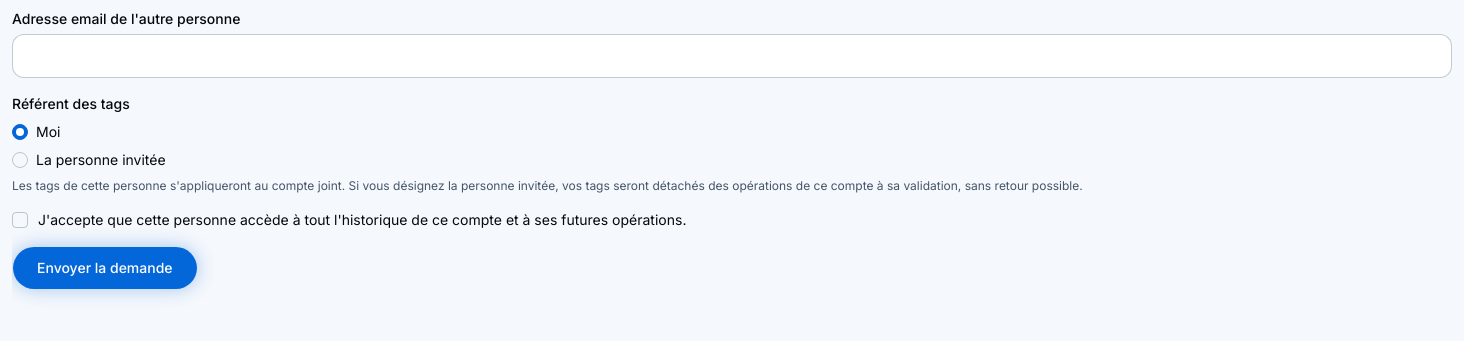
it: demande de compte joint › transmet le compte, l'adresse, le référent et l'accord
Step 1. Type "b@x.fr" into the field labelled "Adresse email de l'autre personne" → (732, 56), box [12, 34, 1452, 78]
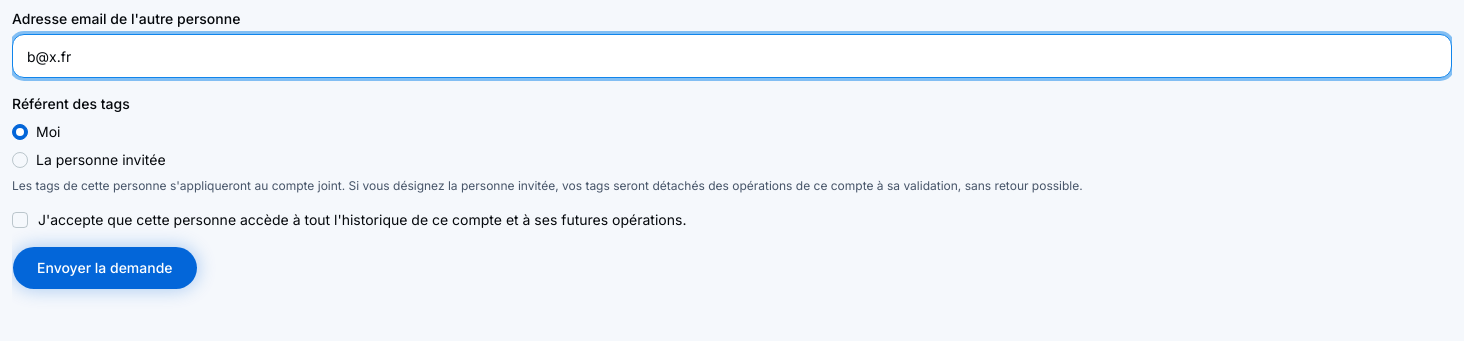
Step 2. Click the checkbox → (20, 220), box [12, 212, 28, 228]
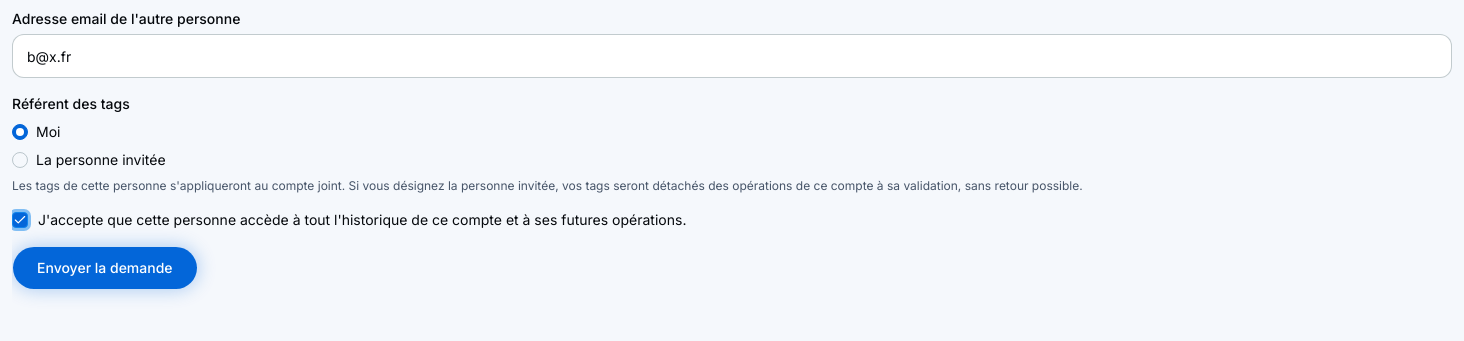
Step 3. Click the button "Envoyer la demande" → (105, 268), box [12, 246, 198, 290]
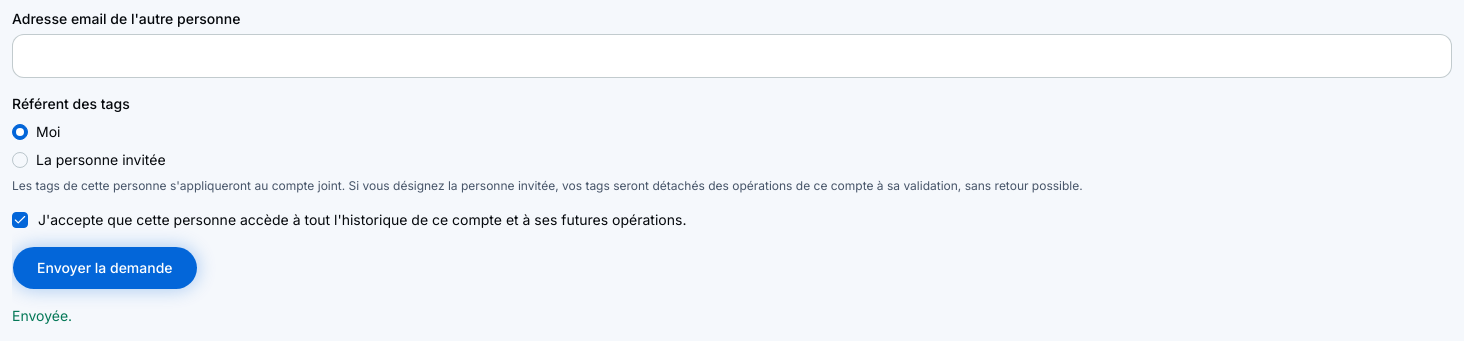
Expected: the text "Envoyée." is shown, [12, 307, 72, 324]
